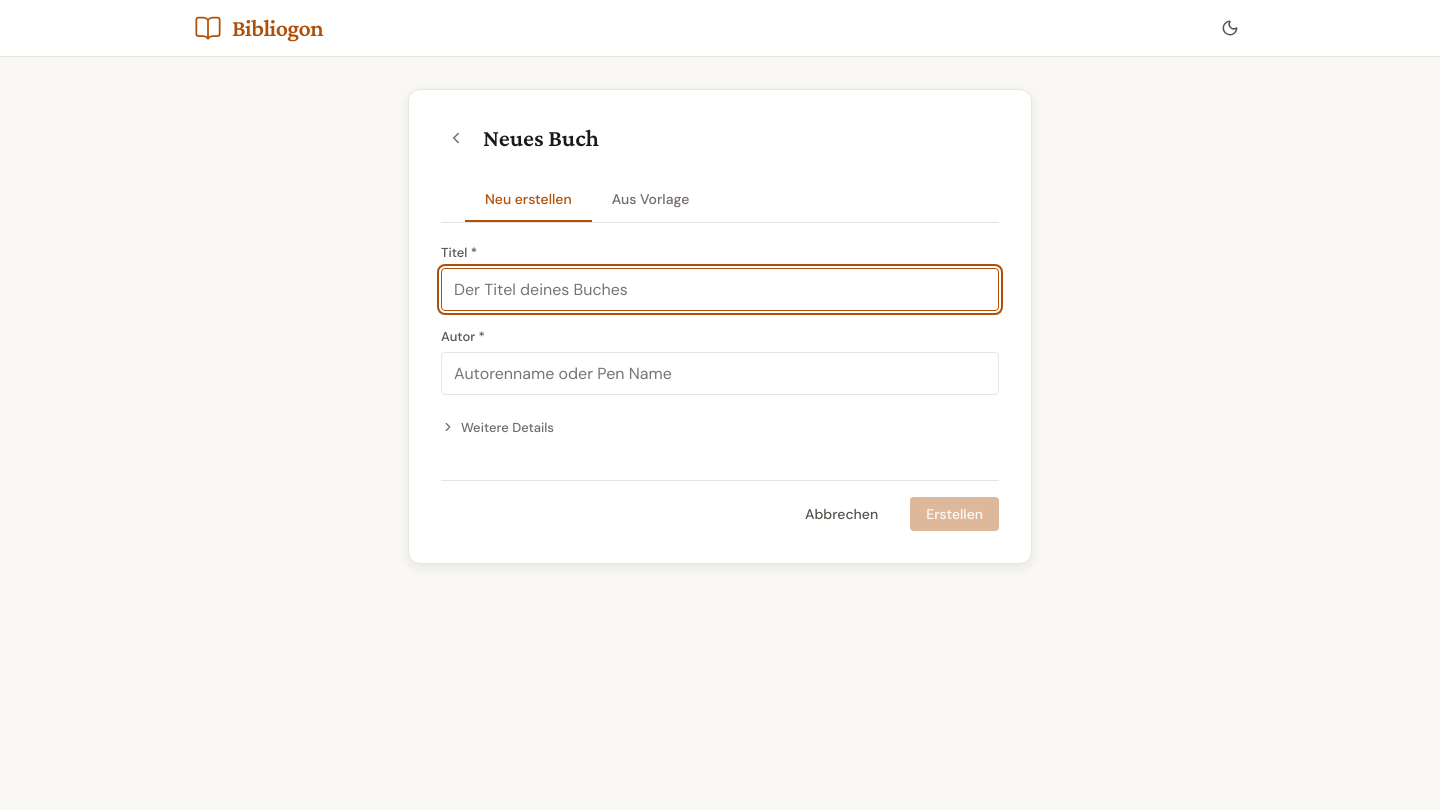
Test: CreateBookPage cold start (ApiStorage fallback, all reads reject) › renders the full form subtree (optional fields expanded) without crashing
Click the button with test id "create-book-more-details". click: (498, 425)
box: left=441, top=411, right=554, bottom=440
(page scrolled)
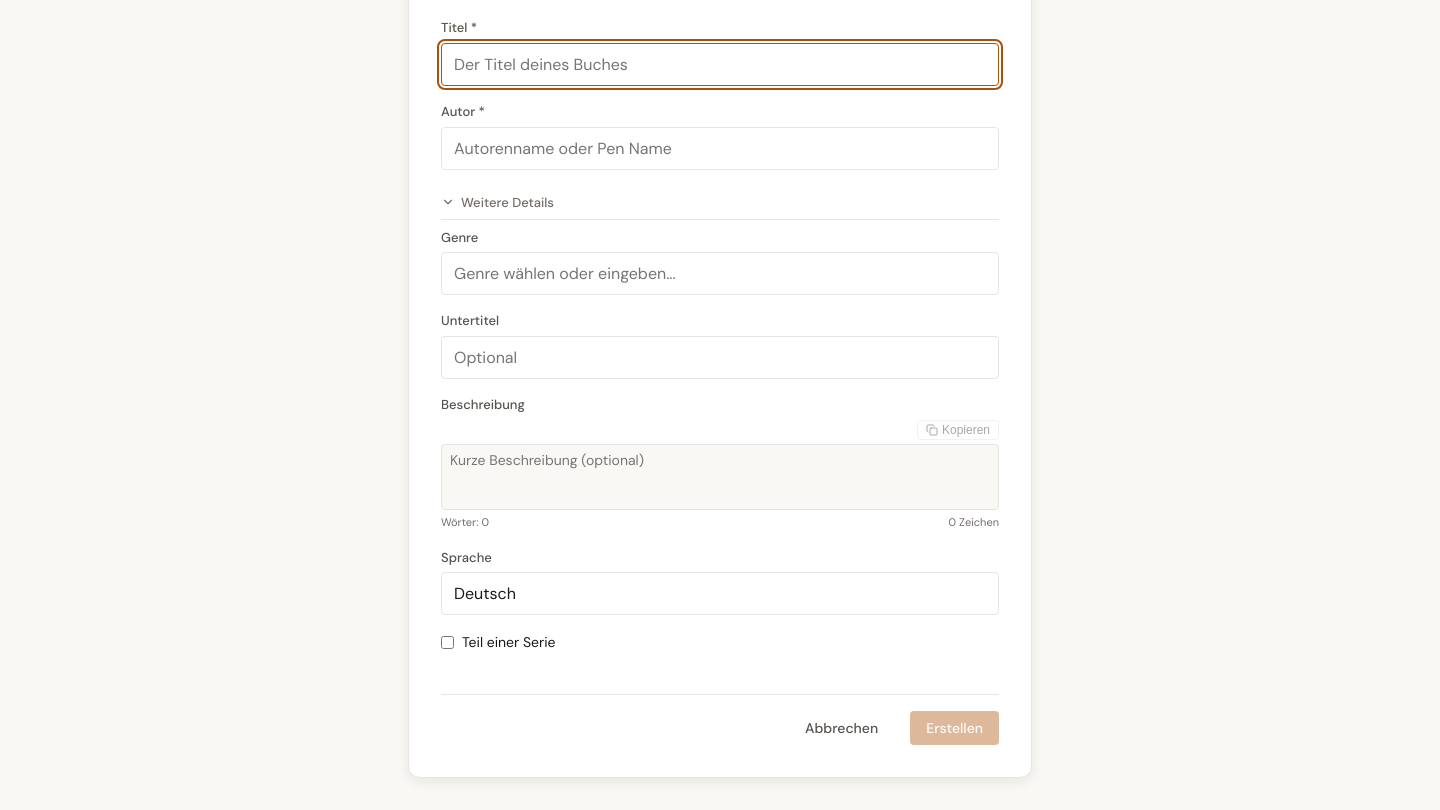
Result: the dropdown with test id "create-book-language" is shown at left=441, top=572, right=999, bottom=615
